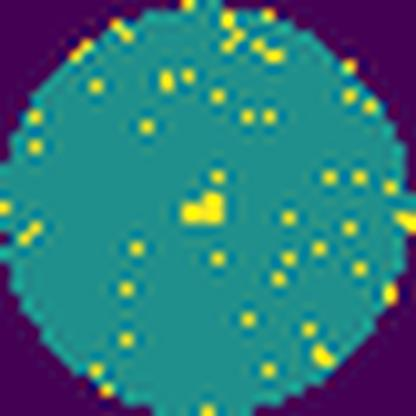Center: (182, 193, 224, 226)
